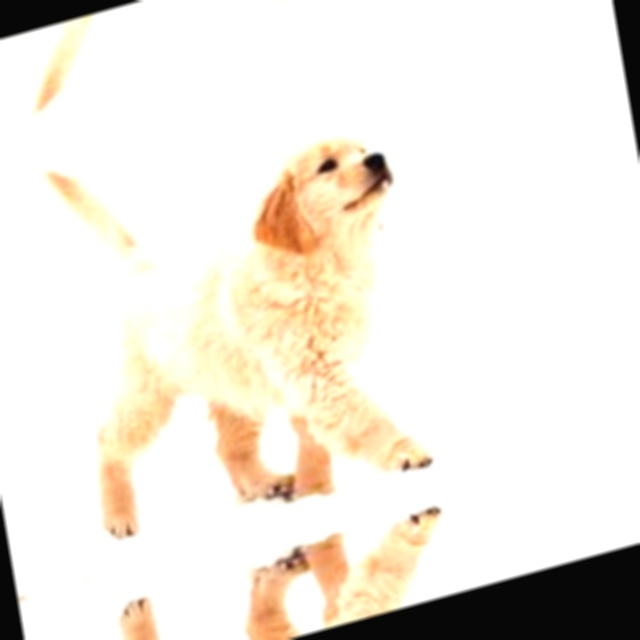dog: (11, 61, 458, 562), (84, 499, 479, 640), (0, 0, 387, 135)
